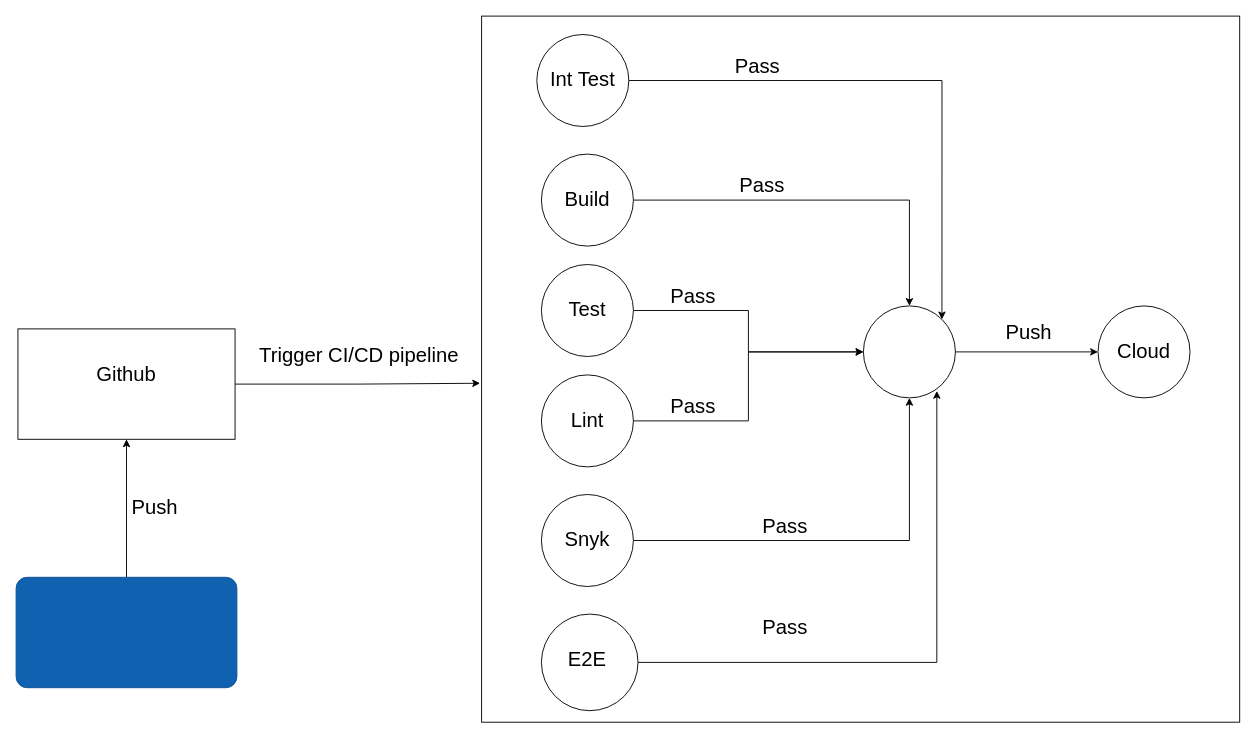
The diagram is 1256 pixels wide and 739 high, and some of its shapes have lost their labels. The box of each missing label's shape, as (x1, y1, x2, y2) in pixels:
Docker: (862, 305, 955, 398)
Song Snippets [Software System] A web based music guessing game.: (15, 576, 237, 688)
